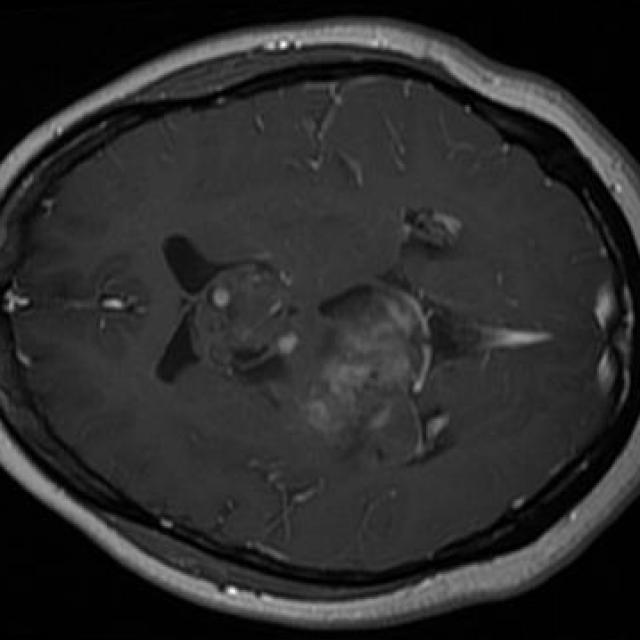glioma: (307, 294, 431, 433)
